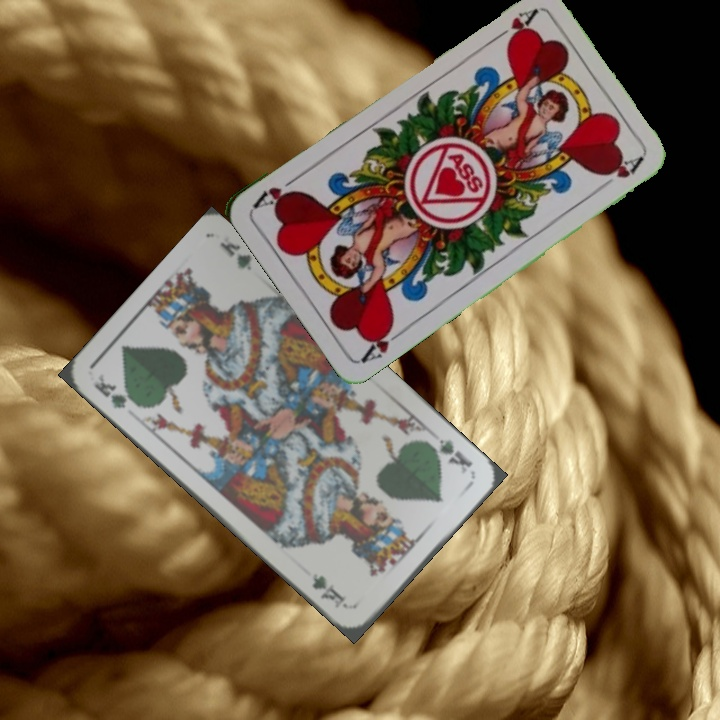GK: (90, 370, 142, 412), (423, 435, 475, 477)
HA: (357, 317, 409, 366), (487, 5, 540, 45)
